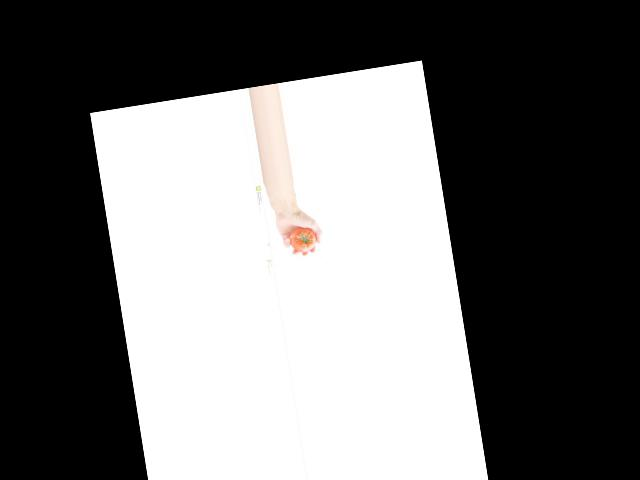tomato: (287, 225, 317, 254)
